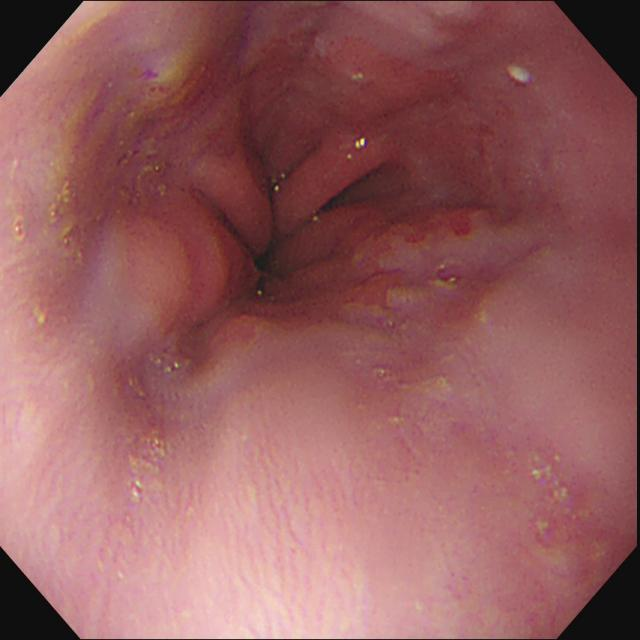I: (135, 28, 491, 360)
J: (509, 68, 533, 87)
